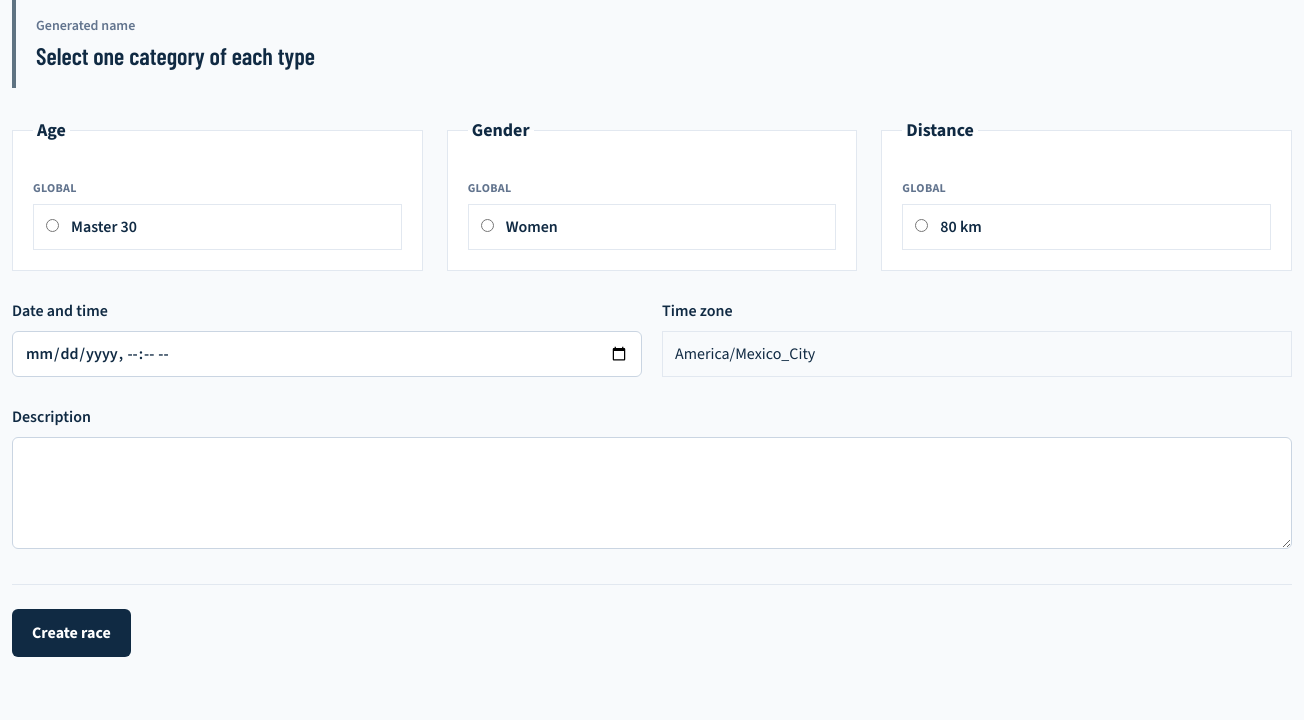
Test case: RaceForm › previews the authoritative category-based race name
The width and height of the screenshot is (1304, 720).
Step 1. Click the radio button labelled "Master 30" → (52, 226), box left=46, top=219, right=59, bottom=232
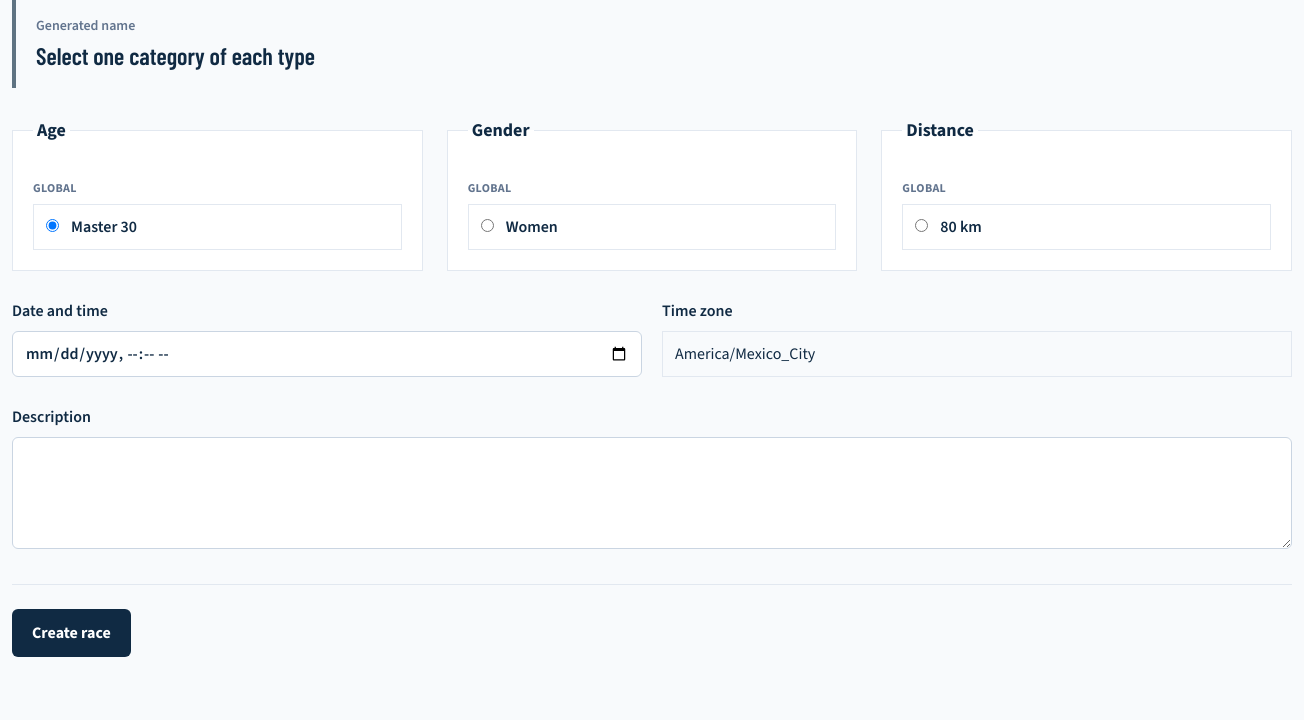
Step 2. Click the radio button labelled "Women" → (487, 226), box left=481, top=219, right=494, bottom=232
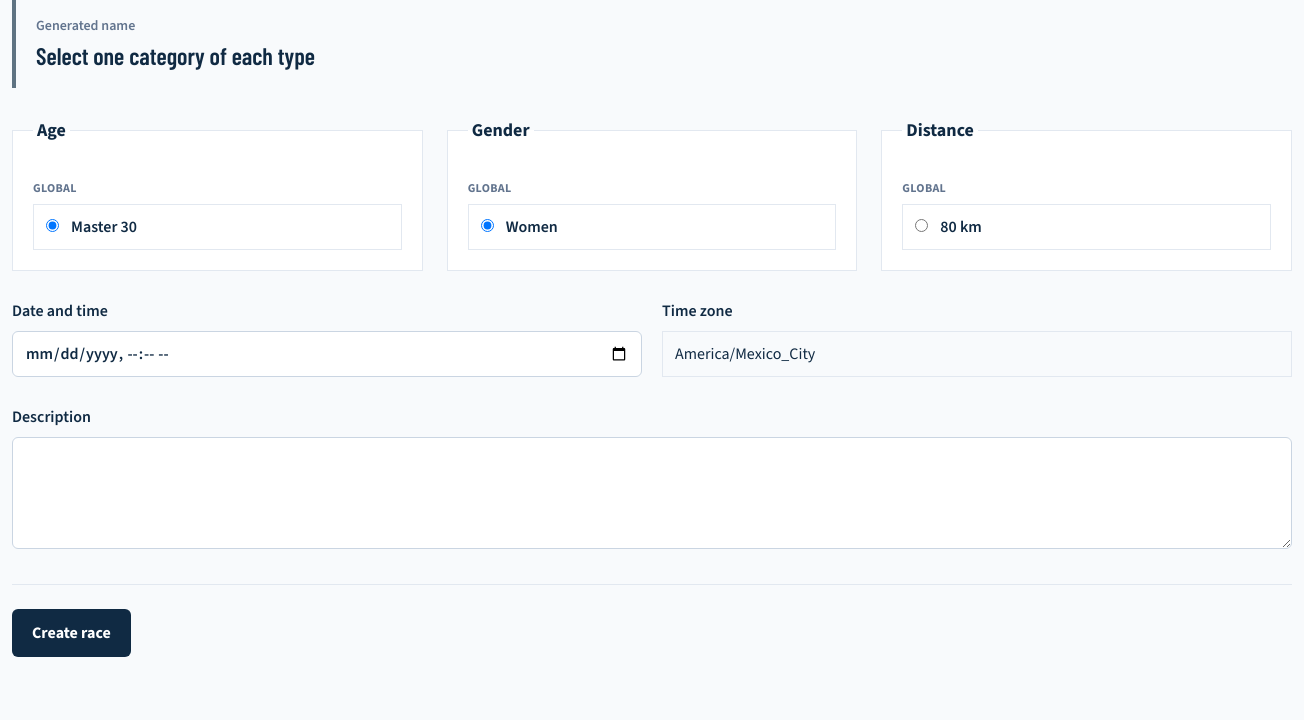
Step 3. Click the radio button labelled "80 km" → (922, 226), box left=915, top=219, right=928, bottom=232
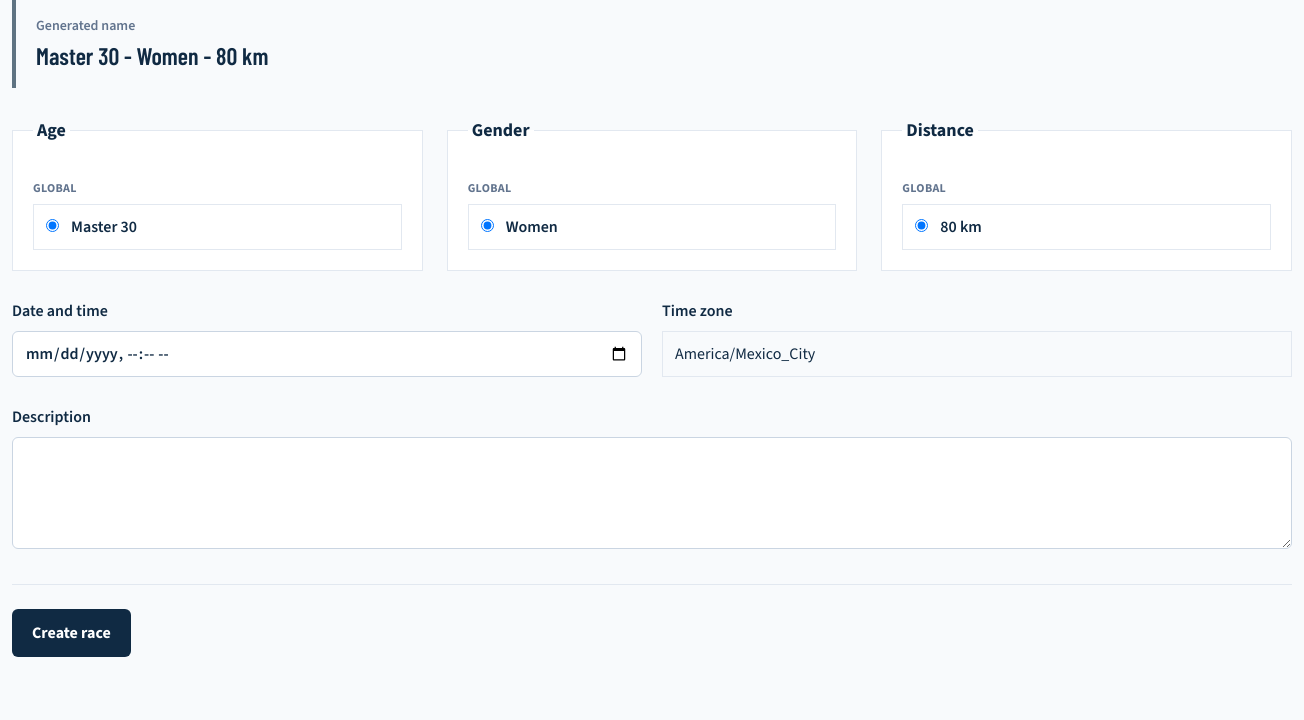
Result: the text "Master 30 - Women - 80 km" is shown at left=36, top=41, right=268, bottom=70
